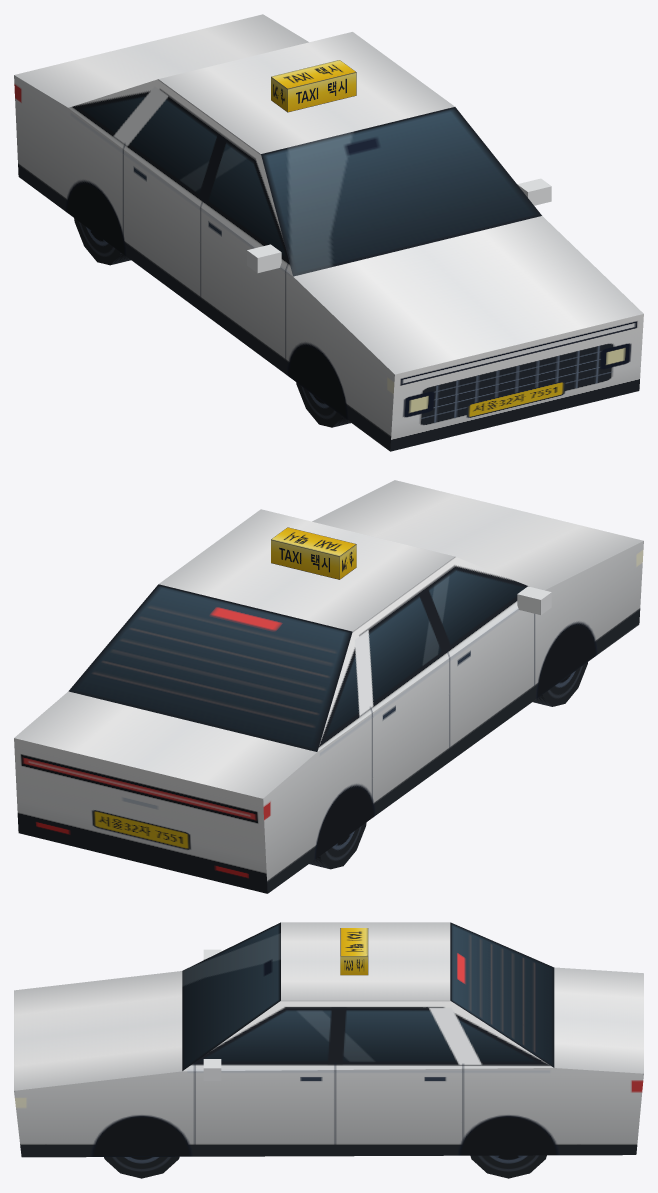
File: car_taxi.glb
The picture shows the model from 3 angles, top to bottom: view 1: azimuth 30°, elevation 25°; view 2: azimuth 150°, elevation 25°; view 3: azimuth 270°, elevation 25°; orthographic projection. The views are drawn at different scales.
Visible parts, largest first — view 1: KoreanCar_Grandeur; view 2: KoreanCar_Grandeur; view 3: KoreanCar_Grandeur.
Boxes of the visible parts, x1,y1,x2,y2 form: KoreanCar_Grandeur: (14, 14, 643, 451); KoreanCar_Grandeur: (14, 480, 643, 893); KoreanCar_Grandeur: (14, 922, 643, 1178).
Size of the model in its own units: 2.22 by 1.63 by 4.98.
1 material, 1 textured.
